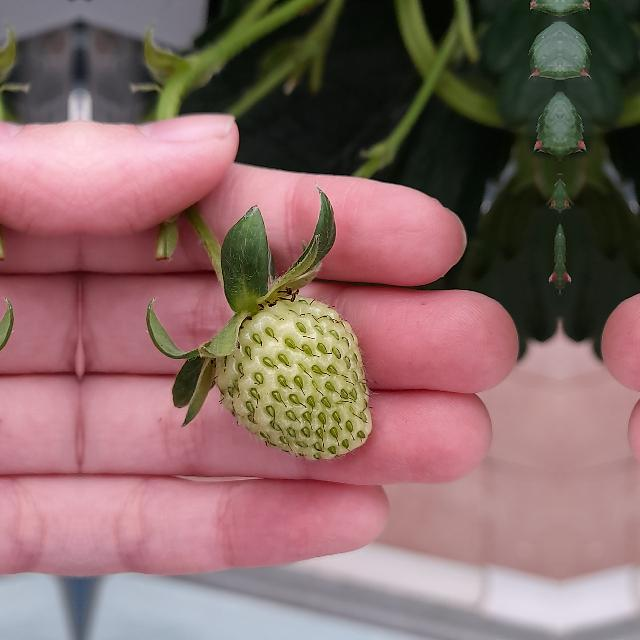Health_25: (215, 294, 372, 460)
